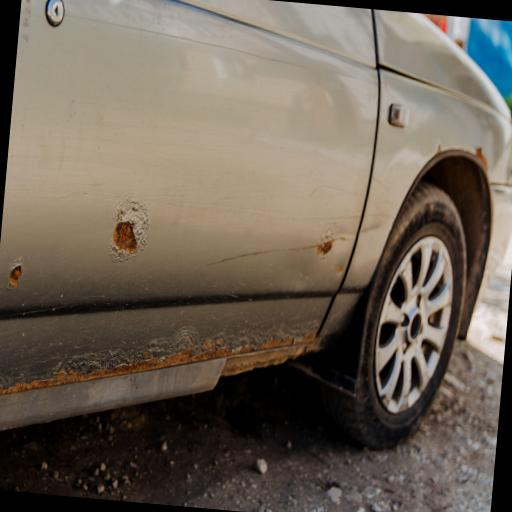corrosion: (0, 305, 318, 395), (217, 337, 314, 378), (110, 219, 139, 257), (5, 259, 25, 291), (473, 146, 490, 171), (316, 236, 334, 258)
